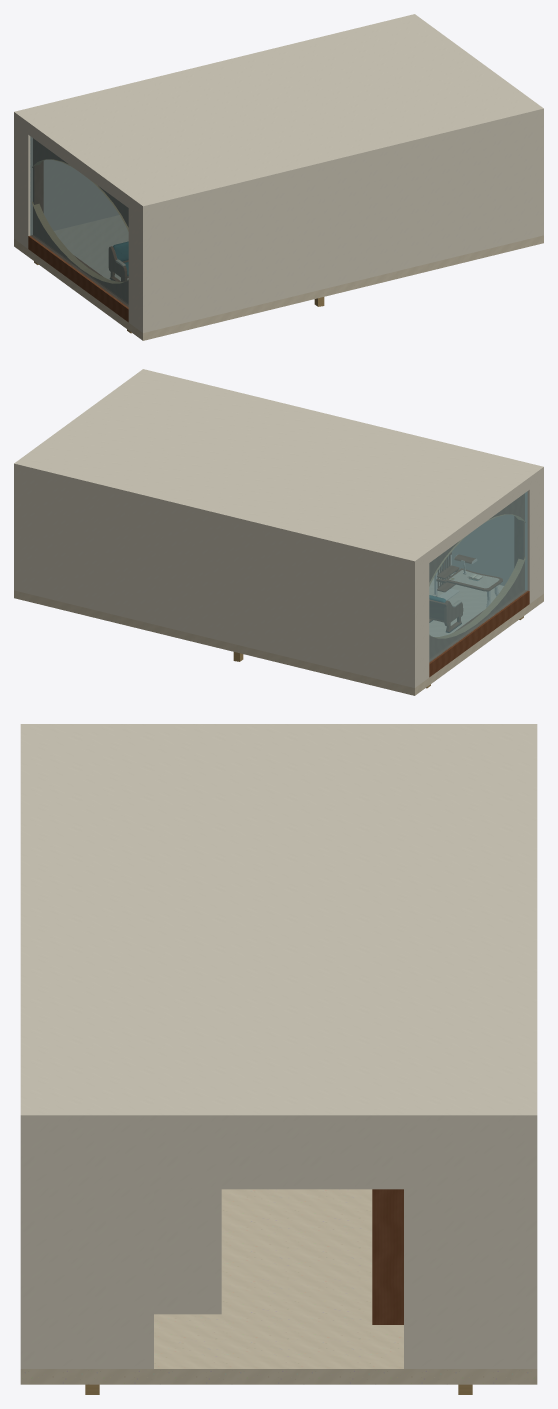
File: QuietGroveBank_415_r001.glb
3 views of the same model, one above another, from view 1: azimuth 30°, elevation 25°; view 2: azimuth 150°, elevation 25°; view 3: azimuth 270°, elevation 25° (orthographic). The views are drawn at different scales.
Parts seen in each view (by area): view 1: QG415_Ceiling, QG415_SouthSide, QGB415_PrivateCourtGlass, QG415_RoomFloor, QG415_NorthSide, QGB415_CourtSouthPier, QGB415_CourtNorthPier, QGB415_CourtSill, QG415_OvalWindowReveal, QG415_OvalDepthReturn, QGB415_CourtHeader, QGB415_DeepReveal_-414.8; view 2: QG415_Ceiling, QG415_NorthSide, QGB415_PrivateCourtGlass, QG415_RoomFloor, QG415_SouthSide, QGB415_CourtNorthPier, QGB415_CourtSouthPier, QGB415_CourtSill, QG415_OvalWindowReveal, QG415_OvalDepthReturn, QGB415_CourtHeader, QGB415_DeepReveal_-409.2 (+1 smaller); view 3: QG415_Ceiling, QG415_RoomFloor, QG415_EntryShoulderNorth, QG415_EntryShoulderSouth, QG415_EntryHeader, QG415_WashEntrySide, QG415_EntryPrivacyDogleg, QG415_NorthSide, QG415_SouthSide.
Boxes of the visible parts, x1,y1,x2,y2 form: QG415_Ceiling: (14,14,543,211); QG415_SouthSide: (141,114,543,332); QGB415_PrivateCourtGlass: (30,136,128,307); QG415_RoomFloor: (14,215,543,340); QG415_NorthSide: (14,117,118,239); QGB415_CourtSouthPier: (128,201,150,332); QGB415_CourtNorthPier: (14,118,32,248); QGB415_CourtSill: (28,235,128,322); QG415_OvalWindowReveal: (34,139,128,303); QG415_OvalDepthReturn: (32,159,128,283); QGB415_CourtHeader: (28,128,128,207); QGB415_DeepReveal_-414.8: (33,138,43,234); QG415_Ceiling: (14,369,543,566); QG415_NorthSide: (14,469,415,687); QGB415_PrivateCourtGlass: (429,491,527,662); QG415_RoomFloor: (14,570,543,695); QG415_SouthSide: (439,472,543,594); QGB415_CourtNorthPier: (407,556,429,687); QGB415_CourtSouthPier: (525,474,541,603); QGB415_CourtSill: (429,590,529,677); QG415_OvalWindowReveal: (429,494,523,658); QG415_OvalDepthReturn: (429,514,525,638); QGB415_CourtHeader: (429,483,529,562); QGB415_DeepReveal_-409.2: (514,493,524,589); QG415_Ceiling: (20,724,537,1125); QG415_RoomFloor: (20,1189,537,1384); QG415_EntryShoulderNorth: (404,1125,528,1368); QG415_EntryShoulderSouth: (29,1125,153,1368); QG415_EntryHeader: (150,1125,407,1189); QG415_WashEntrySide: (154,1189,221,1314); QG415_EntryPrivacyDogleg: (372,1189,403,1324); QG415_NorthSide: (528,1125,537,1368); QG415_SouthSide: (20,1125,29,1368).
Size of the model in its own units: 12.9 by 4.91 by 7.2.
Materials: 58 (43 with a texture image).
